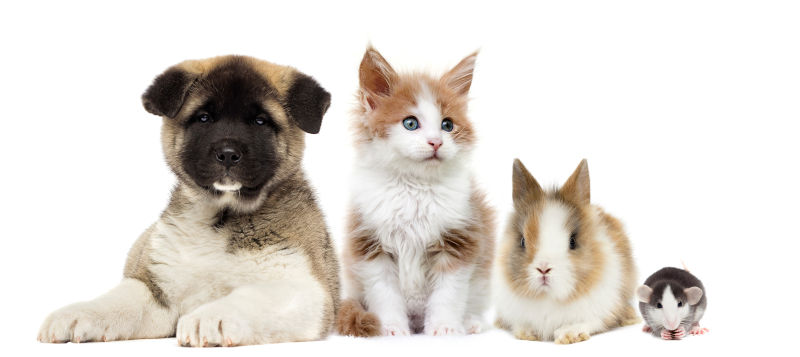cat: (340, 31, 500, 343)
dog: (32, 44, 340, 347)
mouse: (637, 251, 725, 347)
rabbit: (497, 145, 638, 348)
